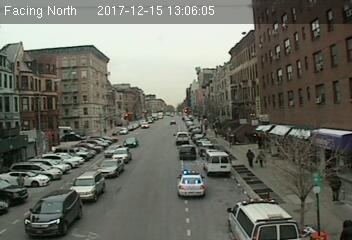car: (24, 189, 82, 236), (70, 172, 106, 201), (97, 160, 125, 177), (112, 147, 132, 162), (177, 145, 197, 159), (173, 132, 191, 144), (122, 137, 139, 147)
pedestrian: (247, 147, 257, 171), (257, 147, 265, 169)
police: (225, 196, 304, 238), (176, 170, 206, 198)
truck: (203, 151, 232, 175)
